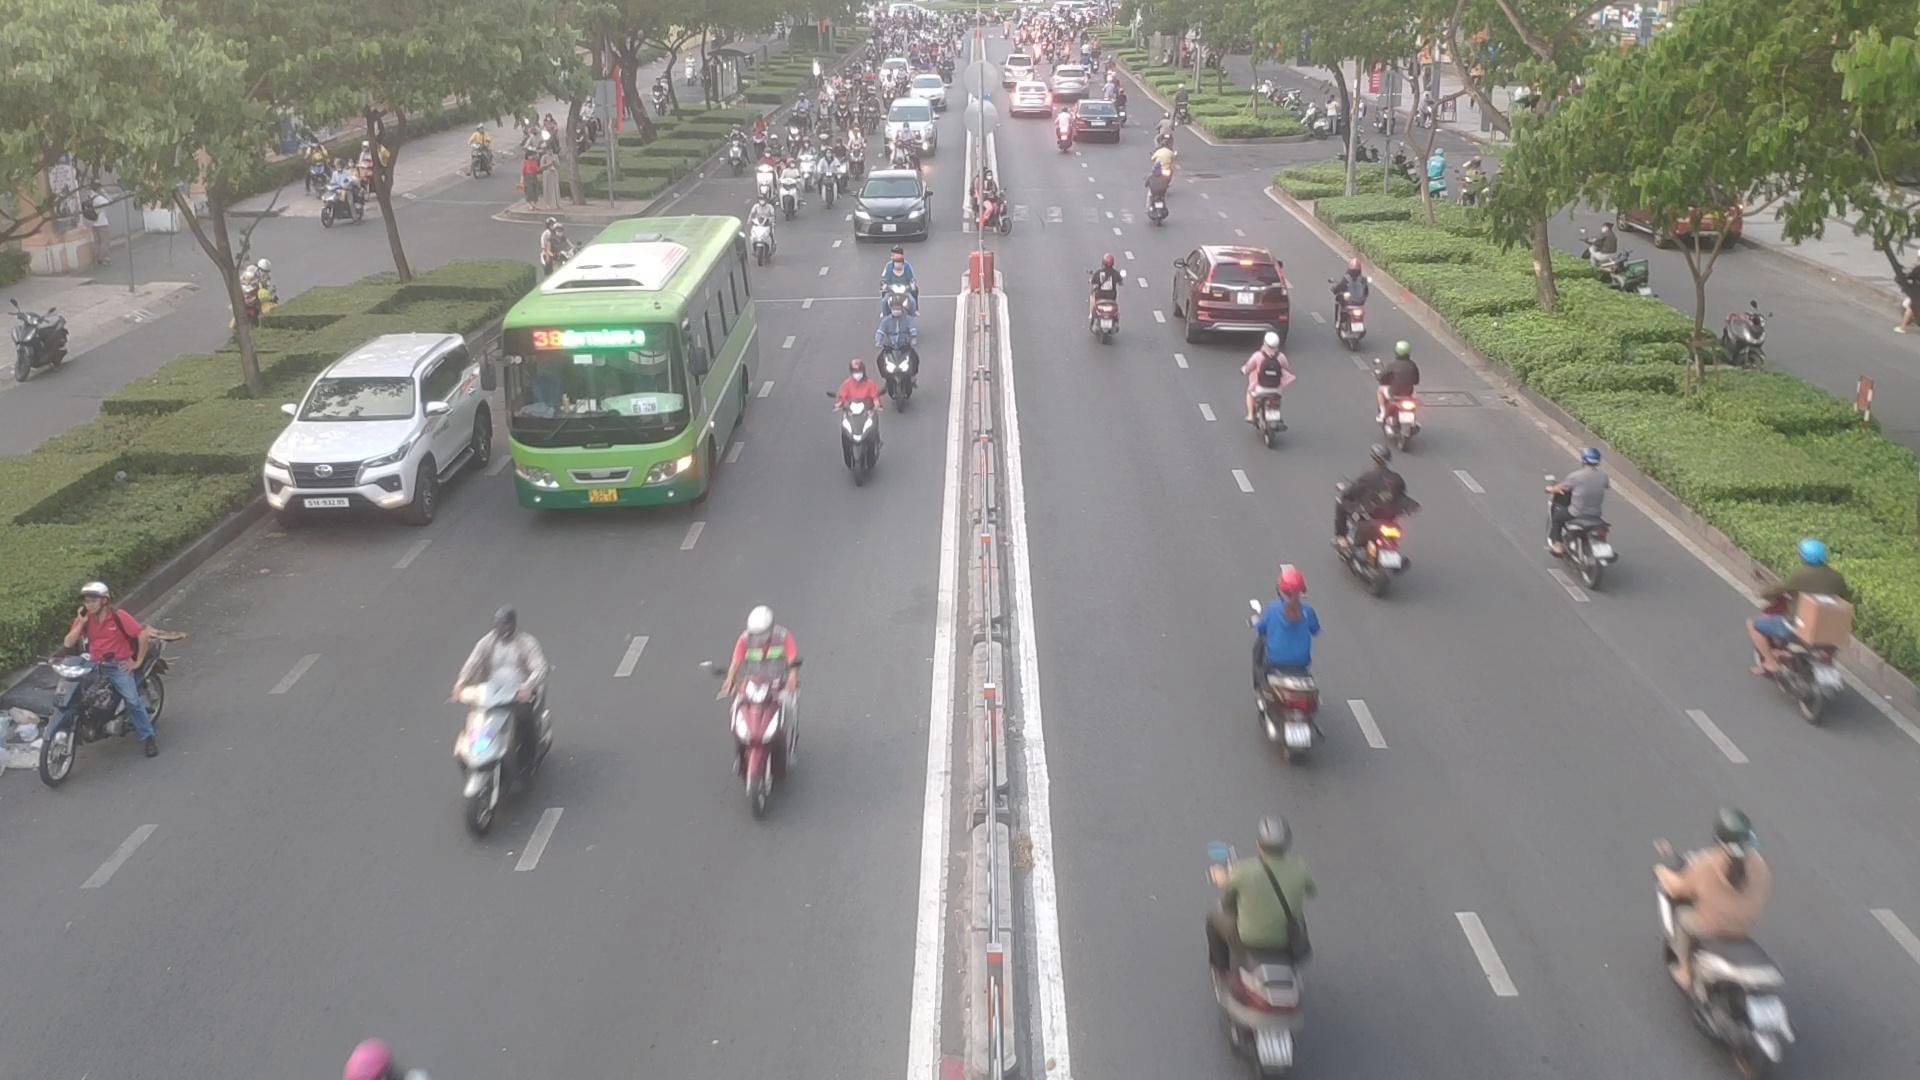bus: (495, 218, 767, 514)
car: (266, 332, 520, 527), (1178, 244, 1298, 344), (851, 189, 936, 243)
motorbike: (1647, 796, 1813, 1076), (1203, 810, 1321, 1073), (1731, 554, 1902, 733), (18, 584, 171, 773), (438, 611, 560, 822), (700, 607, 806, 814), (1236, 583, 1340, 756), (1327, 452, 1414, 588), (1538, 460, 1619, 593), (828, 361, 907, 481), (1241, 334, 1300, 443), (873, 295, 930, 409), (1379, 338, 1436, 444), (1327, 269, 1383, 353), (1077, 258, 1127, 344), (1139, 160, 1176, 237)
